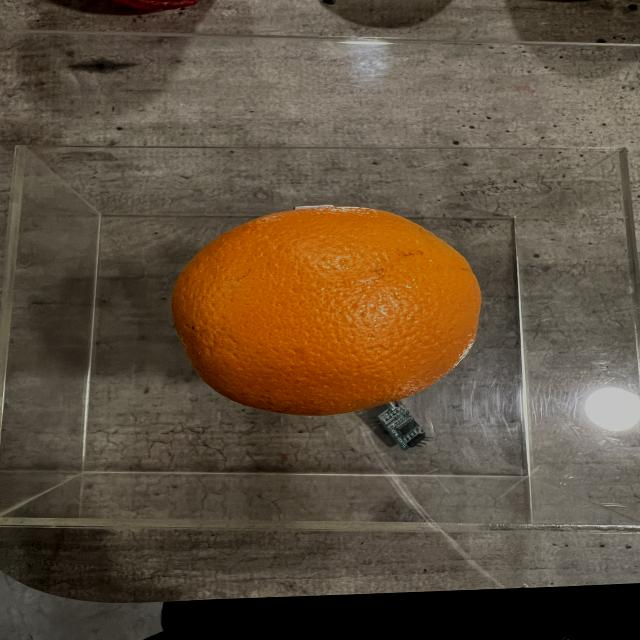orange: (170, 207, 487, 417)
